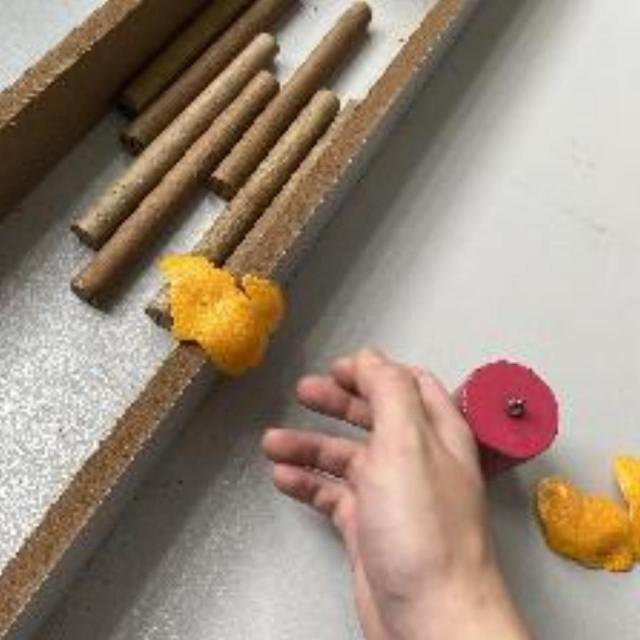orange-peel: (160, 247, 289, 381), (530, 453, 640, 571)
